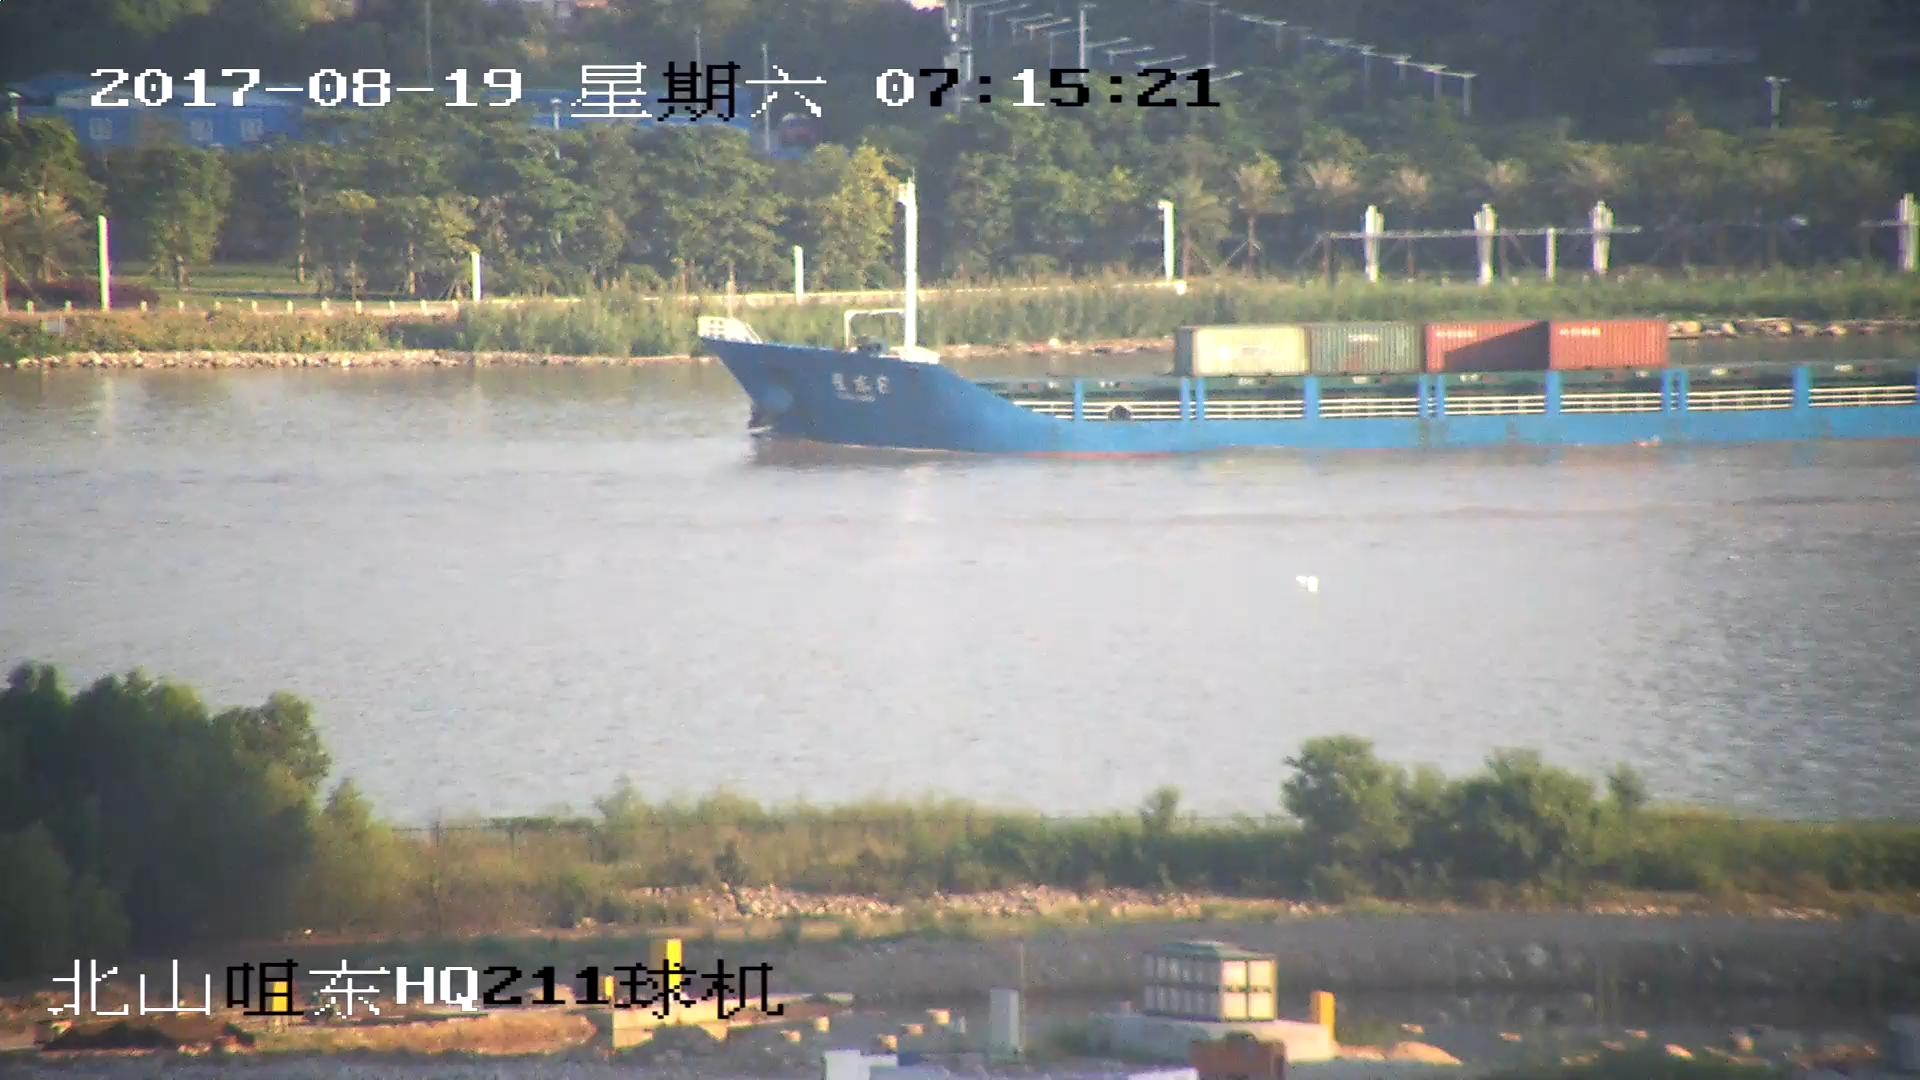general cargo ship: (702, 185, 1920, 451)
